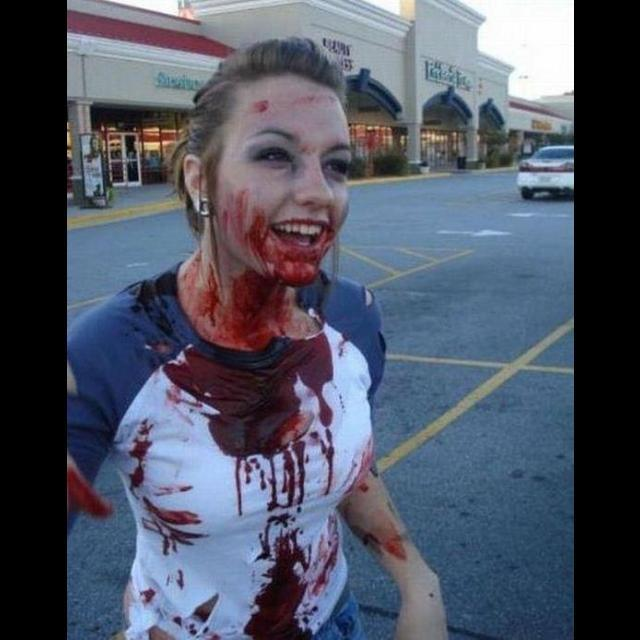blood: (177, 185, 344, 351), (162, 332, 333, 458), (198, 429, 354, 562), (243, 532, 312, 640), (294, 536, 348, 628), (140, 497, 205, 556), (66, 456, 111, 519), (127, 419, 152, 501), (229, 81, 269, 119), (370, 525, 408, 562), (379, 559, 388, 569)
